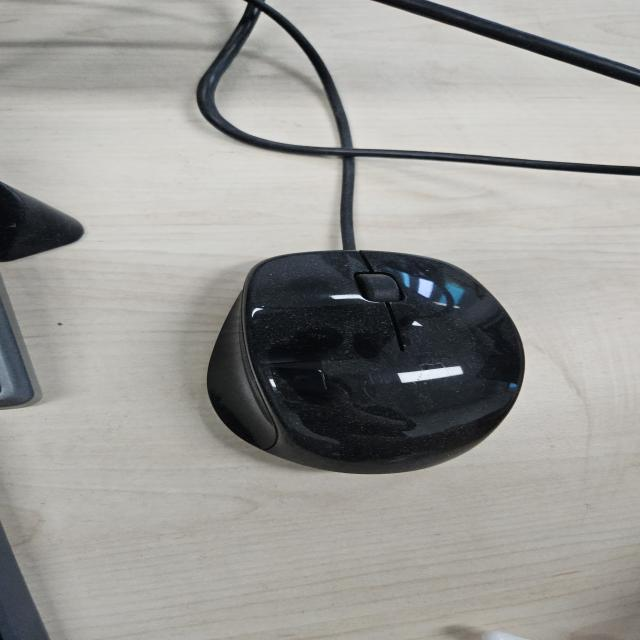Mouse: (203, 248, 528, 475)
